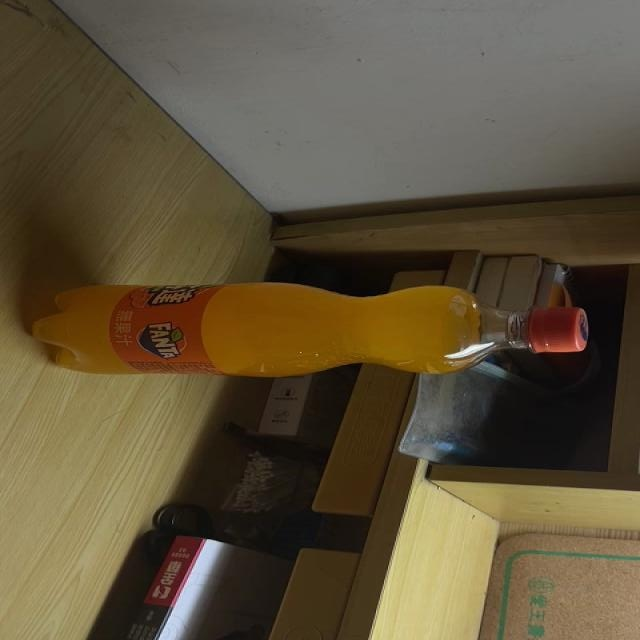Fanta: (35, 286, 591, 376)
